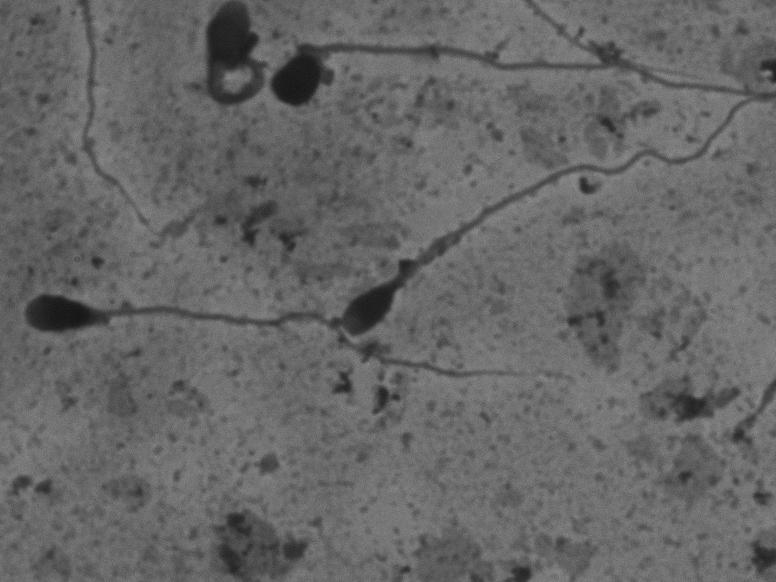Abnormal: (331, 113, 759, 342), (9, 282, 586, 409), (268, 26, 723, 116)
